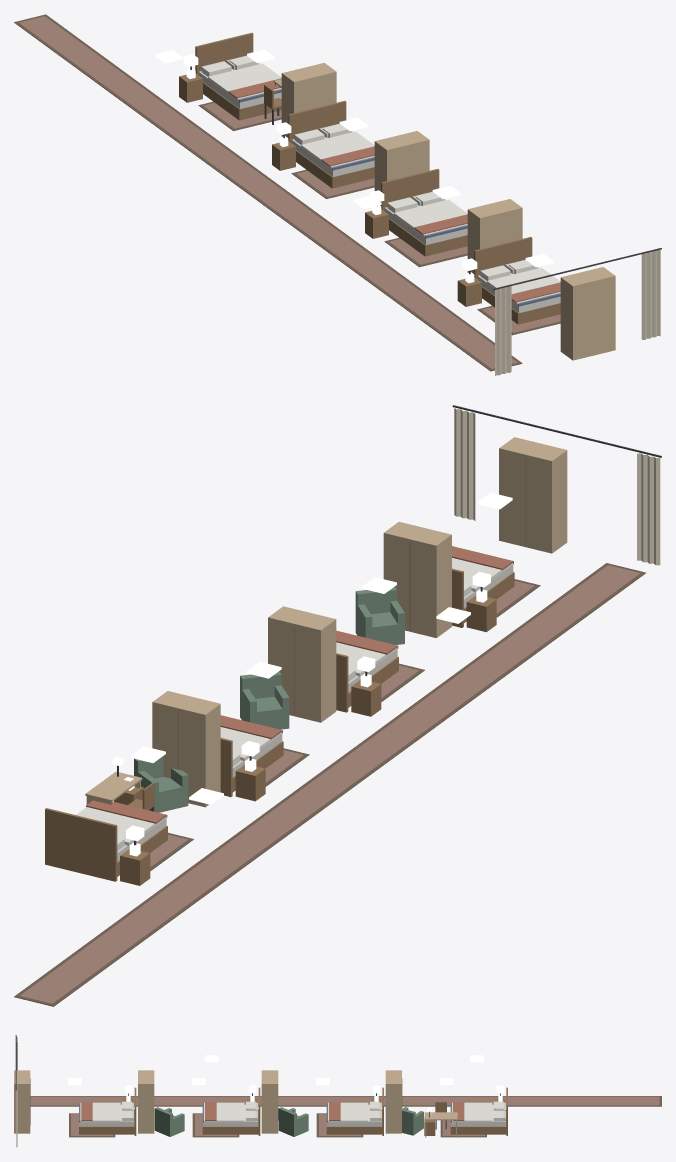
File: fine-s1.glb
3 views of the same model, one above another, from view 1: azimuth 30°, elevation 25°; view 2: azimuth 150°, elevation 25°; view 3: azimuth 270°, elevation 25° (orthographic). The views are drawn at different scales.
Parts seen in each view (by area): view 1: soft-s1, dresser.003, bed-frame.001, bed-frame.002, bed-frame.000, bed-frame.003, dresser.000, dresser.002, dresser.001, nightstand.003, nightstand.001, nightstand.000 (+1 smaller); view 2: soft-s1, dresser.003, dresser.001, dresser.002, dresser.000, bed-frame.000, lounge-chair.001, lounge-chair.002, lounge-chair.000, bed-frame.001, bed-frame.002, bed-frame.003 (+5 smaller); view 3: soft-s1, dresser.001, dresser.000, dresser.002, dresser.003, bed-frame.002, bed-frame.003, bed-frame.001, bed-frame.000, lounge-chair.002, lounge-chair.001, lounge-chair.000 (+2 smaller).
Part boxes in pixels (bbox=[...]): soft-s1: bbox=[14, 14, 661, 375]; dresser.003: bbox=[560, 267, 615, 360]; bed-frame.001: bbox=[288, 100, 374, 188]; bed-frame.002: bbox=[381, 169, 467, 256]; bed-frame.000: bbox=[195, 32, 281, 120]; bed-frame.003: bbox=[474, 237, 560, 324]; dresser.000: bbox=[281, 62, 336, 137]; dresser.002: bbox=[467, 199, 522, 273]; dresser.001: bbox=[374, 131, 429, 205]; nightstand.003: bbox=[457, 272, 481, 306]; nightstand.001: bbox=[272, 136, 295, 170]; nightstand.000: bbox=[179, 68, 202, 102]; soft-s1: bbox=[14, 405, 661, 1006]; dresser.003: bbox=[499, 437, 567, 553]; dresser.001: bbox=[268, 606, 336, 722]; dresser.002: bbox=[383, 521, 451, 637]; dresser.000: bbox=[152, 691, 220, 807]; bed-frame.000: bbox=[45, 808, 167, 881]; lounge-chair.001: bbox=[240, 671, 289, 729]; lounge-chair.002: bbox=[355, 586, 404, 644]; lounge-chair.000: bbox=[134, 756, 188, 812]; bed-frame.001: bbox=[220, 730, 283, 796]; bed-frame.002: bbox=[336, 646, 398, 712]; bed-frame.003: bbox=[452, 561, 514, 627]; soft-s1: bbox=[15, 1035, 661, 1147]; dresser.001: bbox=[261, 1070, 278, 1133]; dresser.000: bbox=[385, 1070, 402, 1133]; dresser.002: bbox=[138, 1070, 154, 1133]; dresser.003: bbox=[14, 1070, 30, 1133]; bed-frame.002: bbox=[202, 1087, 260, 1135]; bed-frame.003: bbox=[79, 1087, 136, 1135]; bed-frame.001: bbox=[326, 1087, 383, 1135]; bed-frame.000: bbox=[450, 1087, 507, 1135]; lounge-chair.002: bbox=[154, 1107, 184, 1136]; lounge-chair.001: bbox=[278, 1107, 308, 1136]; lounge-chair.000: bbox=[402, 1107, 423, 1135].
Size of the model in its own units: 4.72 by 2.41 by 23.69.
